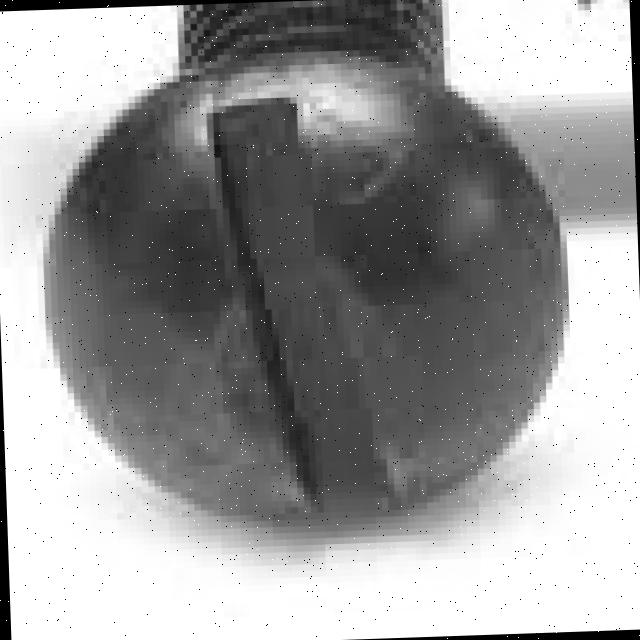Slotted: (34, 74, 584, 564)
